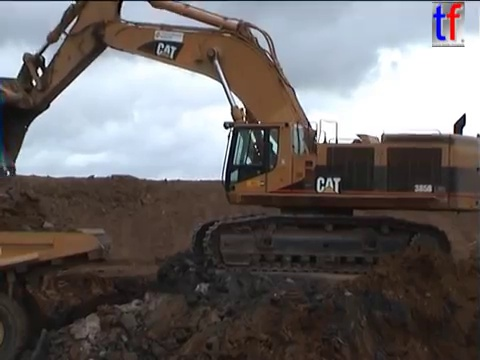excavator: (1, 1, 480, 279)
truck: (1, 223, 114, 360)
